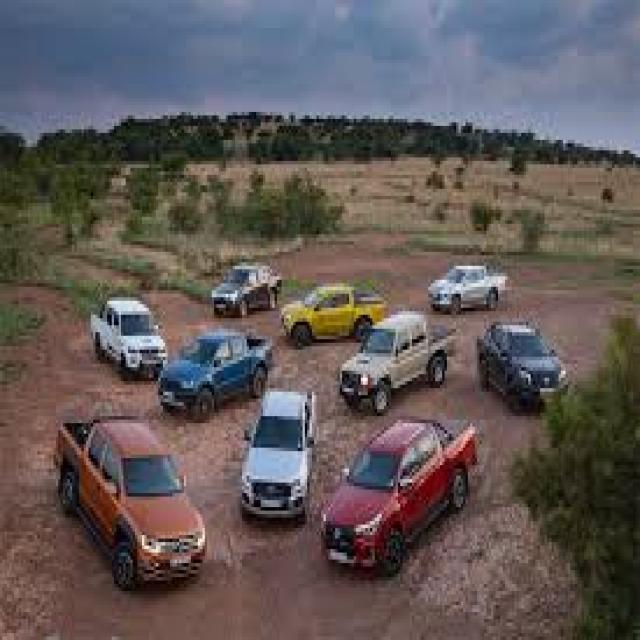Pickup Trucks: (53, 416, 205, 591), (321, 416, 480, 577), (337, 314, 454, 412), (242, 392, 319, 521), (156, 332, 272, 416), (475, 322, 570, 412), (282, 283, 391, 350), (90, 294, 168, 381), (426, 259, 507, 315), (210, 262, 282, 318)
